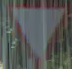Give way: (7, 0, 65, 60)
